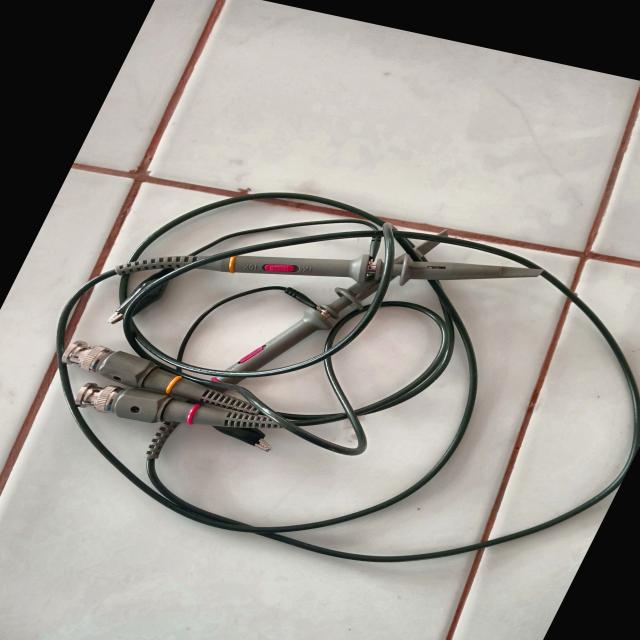CRO Probes: (0, 144, 640, 621)
